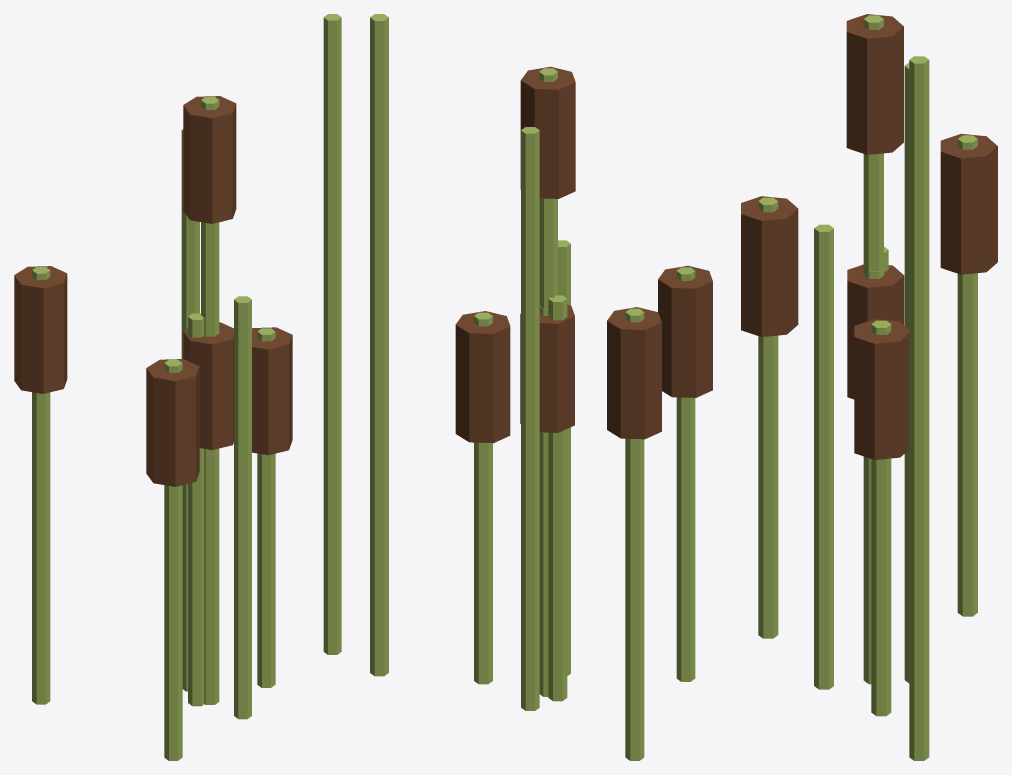
The model's file is reeds_a.glb.
3 renders of one model, left to right at view 1: azimuth 30°, elevation 25°; view 2: azimuth 150°, elevation 25°; view 3: azimuth 270°, elevation 25°, orthographic. The views are drawn at different scales.
Parts seen in each view (by area): view 1: Reed_6, Reed_4, Cattail_5, Cattail_1, Cattail_9, Reed_1, Reed_9, Reed_5, Cattail_3, Reed_3, Cattail_7, Reed_8 (+1 smaller); view 2: Reed_6, Reed_2, Cattail_3, Cattail_9, Reed_9, Cattail_5, Reed_5, Reed_8, Cattail_1, Reed_3, Cattail_7, Reed_7 (+2 smaller); view 3: Reed_6, Reed_4, Cattail_9, Cattail_5, Cattail_1, Reed_9, Cattail_3, Reed_5, Reed_3, Reed_1, Cattail_7, Reed_2 (+1 smaller).
Part boxes in pixels (left/top/right/bottom): Reed_6: left=323, top=14, right=341, bottom=654; Reed_4: left=234, top=296, right=251, bottom=719; Cattail_5: left=146, top=359, right=199, bottom=486; Cattail_1: left=183, top=96, right=236, bottom=223; Cattail_9: left=14, top=266, right=67, bottom=393; Reed_1: left=201, top=97, right=219, bottom=704; Reed_9: left=32, top=267, right=50, bottom=704; Reed_5: left=164, top=359, right=182, bottom=760; Cattail_3: left=252, top=327, right=292, bottom=455; Reed_3: left=257, top=328, right=275, bottom=687; Cattail_7: left=183, top=322, right=233, bottom=449; Reed_8: left=188, top=313, right=204, bottom=706; Reed_6: left=370, top=14, right=388, bottom=676; Reed_2: left=521, top=127, right=539, bottom=710; Cattail_3: left=455, top=311, right=510, bottom=443; Cattail_9: left=607, top=307, right=661, bottom=439; Reed_9: left=625, top=308, right=644, bottom=760; Cattail_5: left=658, top=265, right=712, bottom=397; Reed_5: left=676, top=267, right=695, bottom=681; Reed_8: left=548, top=295, right=567, bottom=701; Cattail_1: left=520, top=66, right=575, bottom=198; Reed_3: left=474, top=312, right=492, bottom=684; Cattail_7: left=520, top=305, right=574, bottom=432; Reed_7: left=539, top=306, right=548, bottom=696; Reed_6: left=909, top=56, right=929, bottom=760; Reed_4: left=814, top=224, right=833, bottom=689; Cattail_9: left=940, top=133, right=997, bottom=274; Cattail_5: left=741, top=196, right=798, bottom=336; Cattail_1: left=846, top=14, right=903, bottom=154; Reed_9: left=957, top=135, right=977, bottom=616; Cattail_3: left=854, top=319, right=909, bottom=459; Reed_5: left=758, top=197, right=778, bottom=638; Reed_3: left=871, top=320, right=891, bottom=716; Reed_1: left=863, top=15, right=883, bottom=683; Cattail_7: left=847, top=264, right=904, bottom=399; Reed_2: left=904, top=62, right=909, bottom=682.
Size of the model in its own units: 0.9479 by 1.92 by 0.6407.
